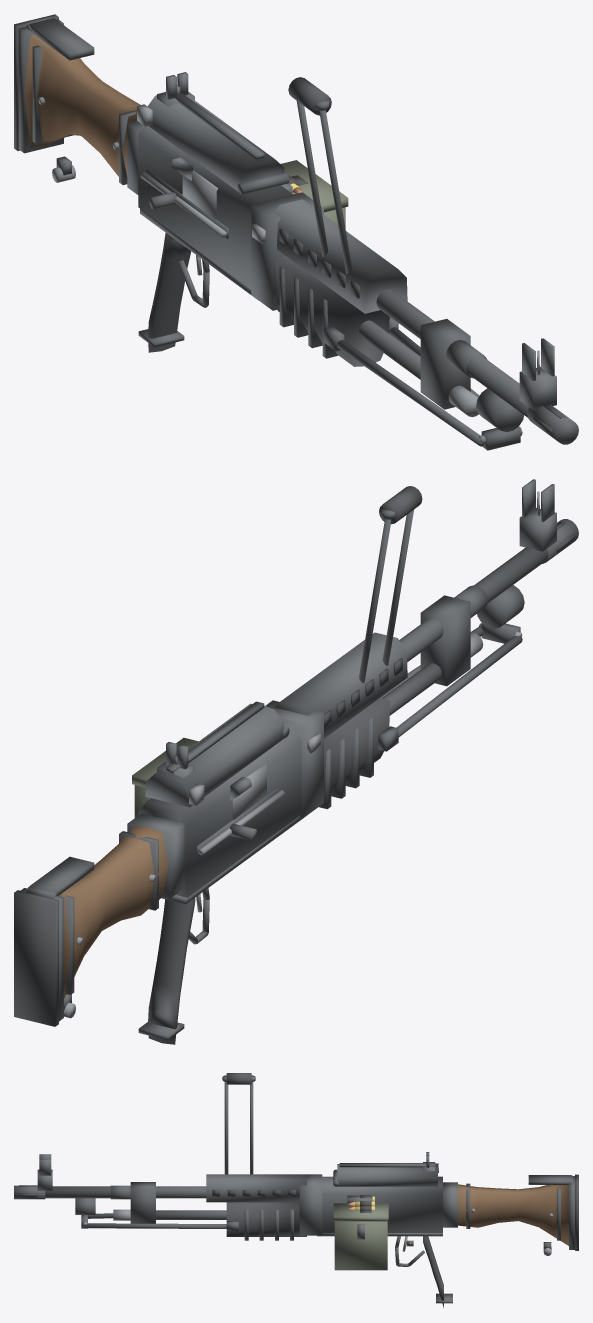
3 views of the same model, one above another, from view 1: azimuth 30°, elevation 25°; view 2: azimuth 150°, elevation 25°; view 3: azimuth 270°, elevation 25° (orthographic). The views are drawn at different scales.
Visible parts, largest first — view 1: body, mag; view 2: body, mag; view 3: body, mag.
Part boxes in pixels (box(x1,y1,x2,y2)): body: box(14, 14, 578, 450); mag: box(281, 160, 348, 228); body: box(14, 479, 578, 1044); mag: box(132, 737, 198, 817); body: box(14, 1073, 578, 1307); mag: box(333, 1195, 388, 1270).
Bounding box in the file's own units: 0.17 × 0.4847 × 1.12.
